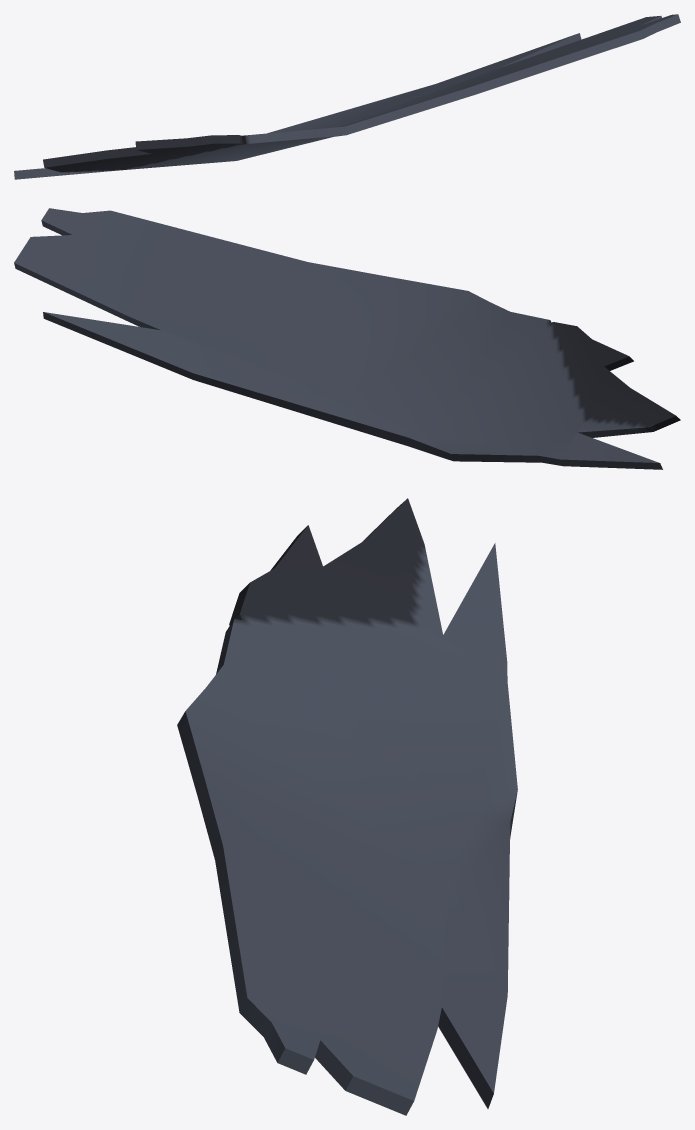
File: r_spaceship_crashed_body.fbx
3 renders of one model, top to bottom at view 1: azimuth 30°, elevation 25°; view 2: azimuth 150°, elevation 25°; view 3: azimuth 270°, elevation 25°, orthographic. The views are drawn at different scales.
Parts seen in each view (by area): view 1: r_spaceship_crashed_body; view 2: r_spaceship_crashed_body; view 3: r_spaceship_crashed_body.
Boxes of the visible parts, x1=… form: r_spaceship_crashed_body: x1=14, y1=14, x2=680, y2=179; r_spaceship_crashed_body: x1=14, y1=208, x2=680, y2=469; r_spaceship_crashed_body: x1=177, y1=498, x2=517, y2=1115.
Bounding box in the file's own units: 1123 × 155 × 270.
Materials: 1 (1 with a texture image).
